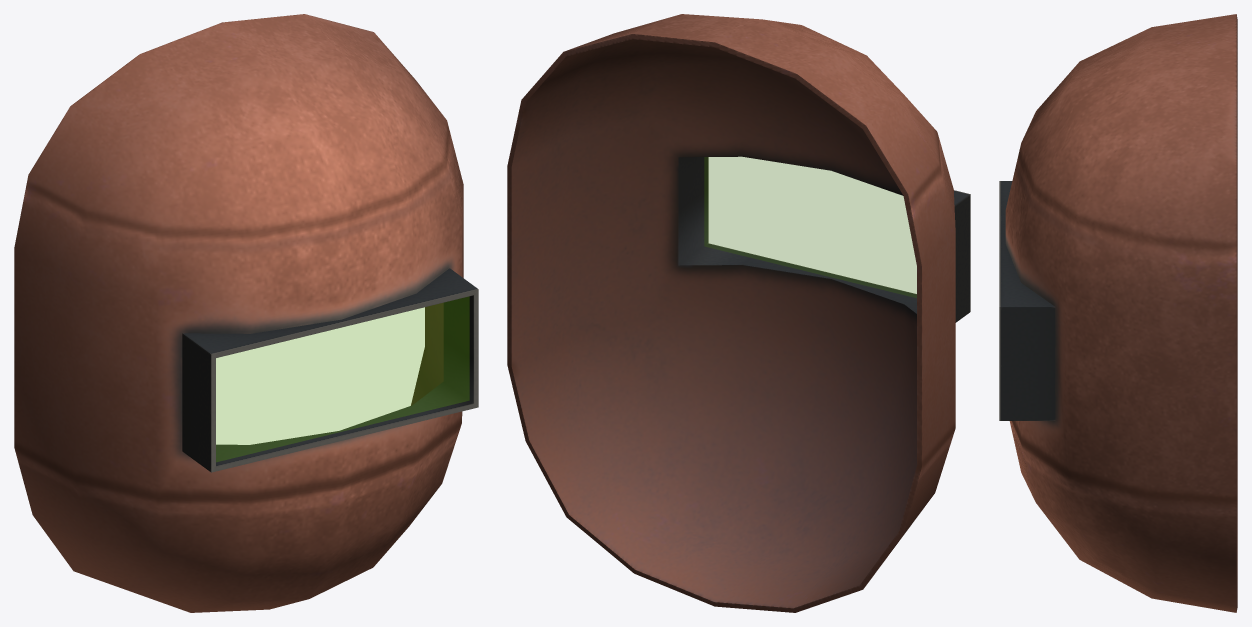
Rendered from tool_WeldMask.fbx.
3 renders of one model, left to right at view 1: azimuth 30°, elevation 25°; view 2: azimuth 150°, elevation 25°; view 3: azimuth 270°, elevation 25°, orthographic. The views are drawn at different scales.
Visible parts, largest first — view 1: WeldMask1; view 2: WeldMask1; view 3: WeldMask1.
Boxes of the visible parts, <box> form: WeldMask1: <box>14,14,478,612</box>; WeldMask1: <box>507,14,970,612</box>; WeldMask1: <box>999,14,1237,612</box>.
Size of the model in its own units: 0.2837 by 0.3688 by 0.1457.
